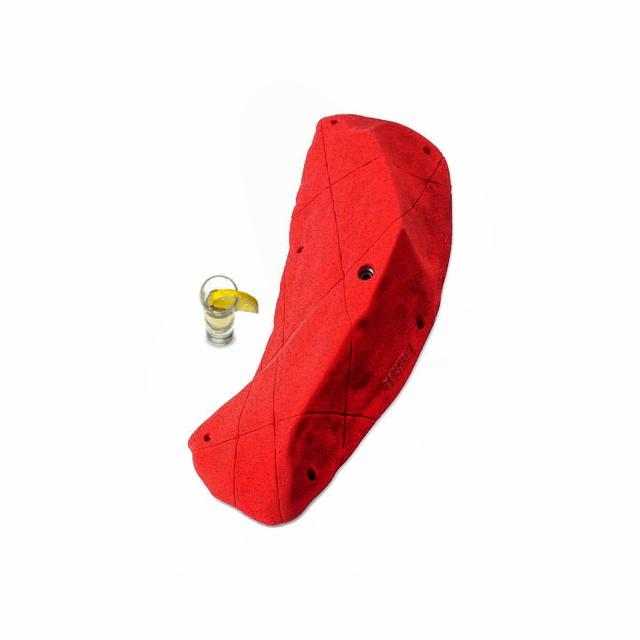Hold: (173, 96, 465, 538)
